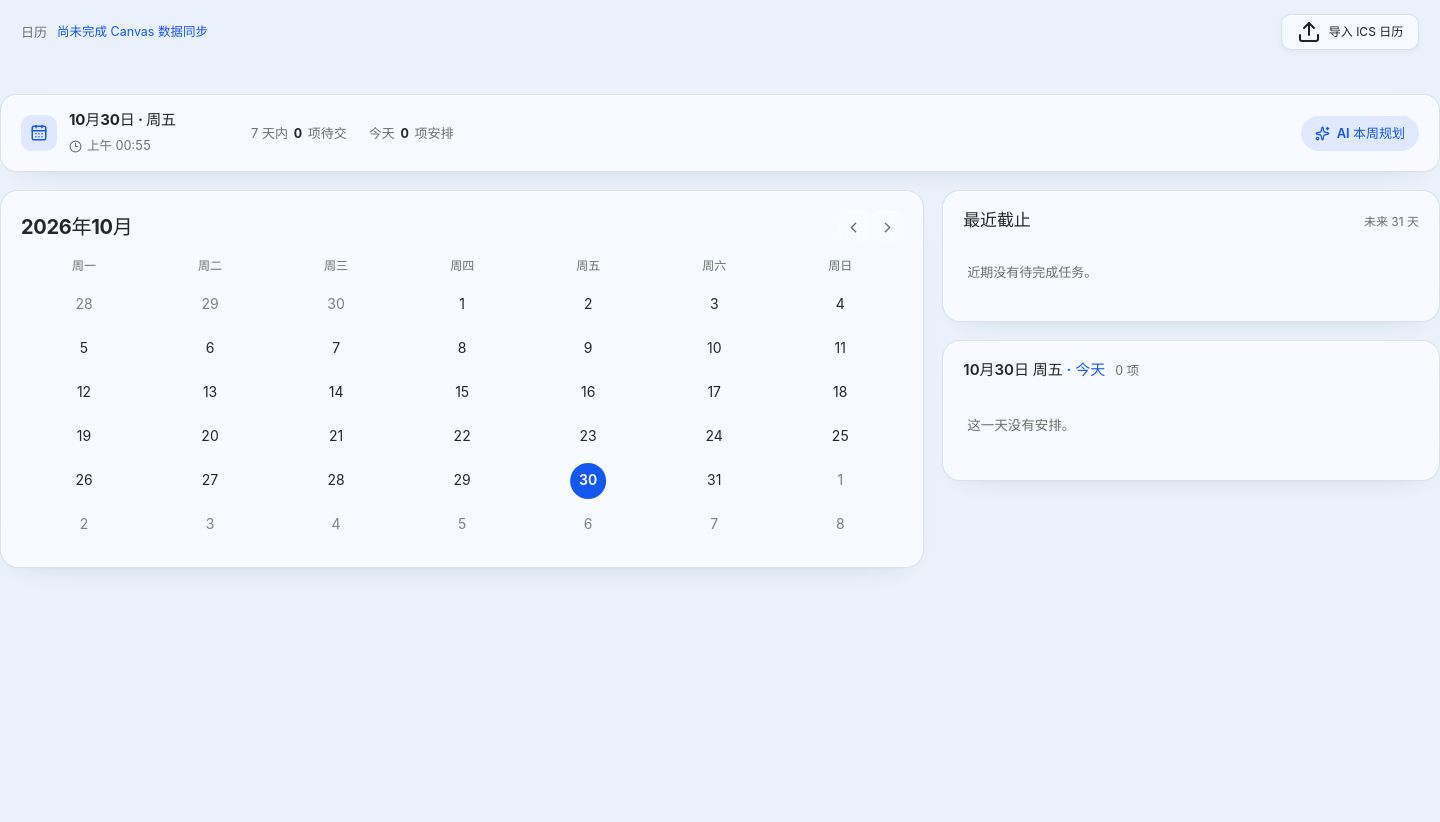
Scenario: ScheduleView › imports an ICS calendar in one action
This screenshot has width=1440, height=822.
Click the button "导入 ICS 日历".
click(1350, 32)  # box [1281,14,1419,50]
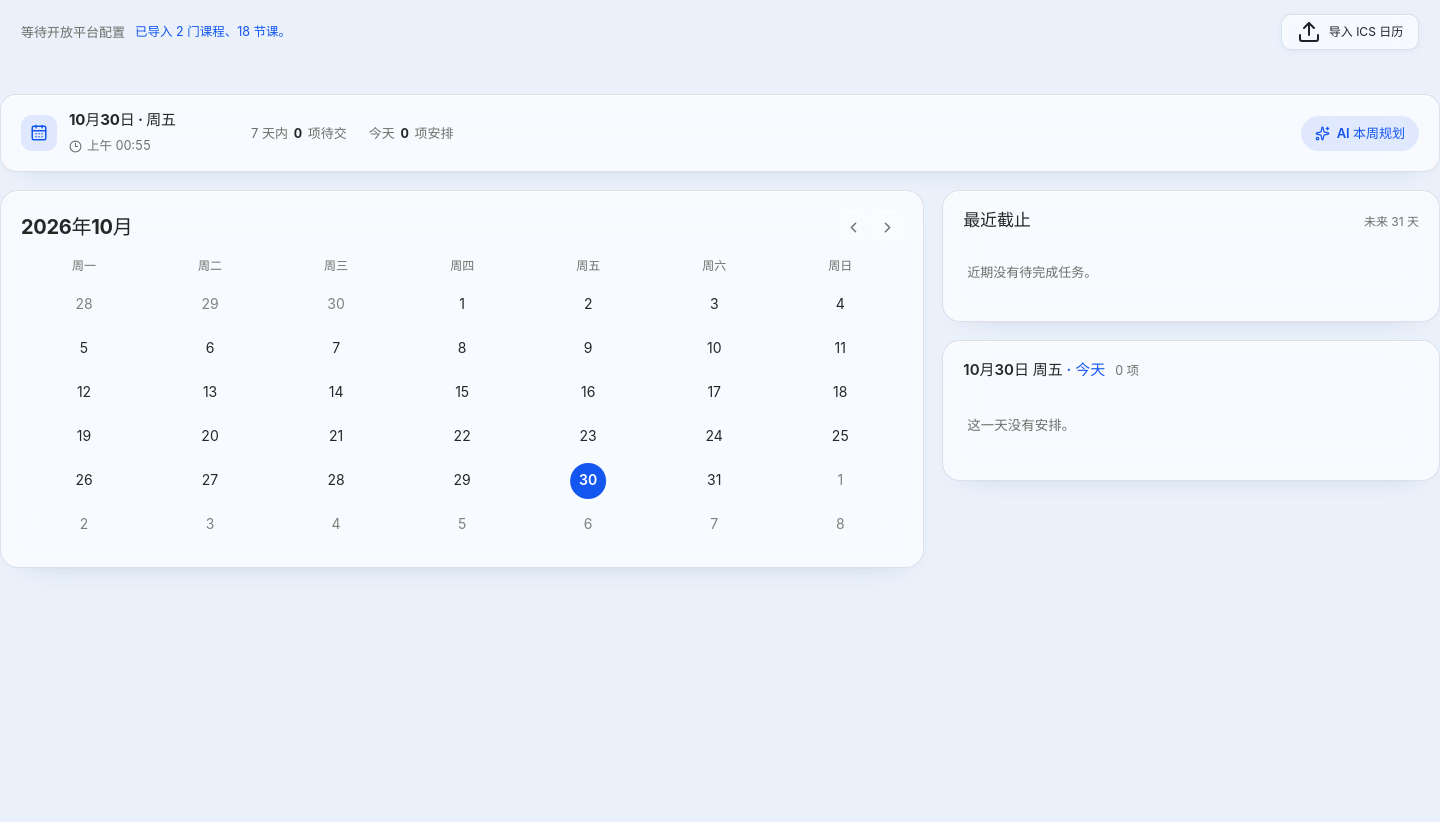
Result: the text "已导入 2 门课程、18 节课。" is shown at [135,24,291,39]
